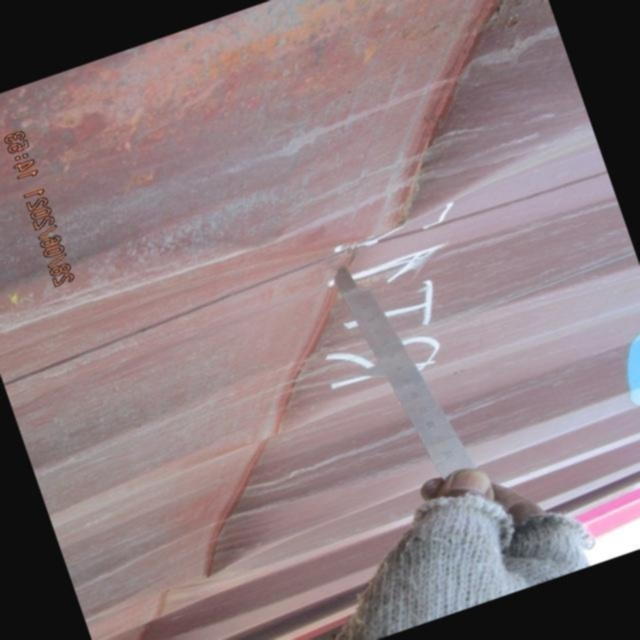Dent: (1, 1, 640, 640)
